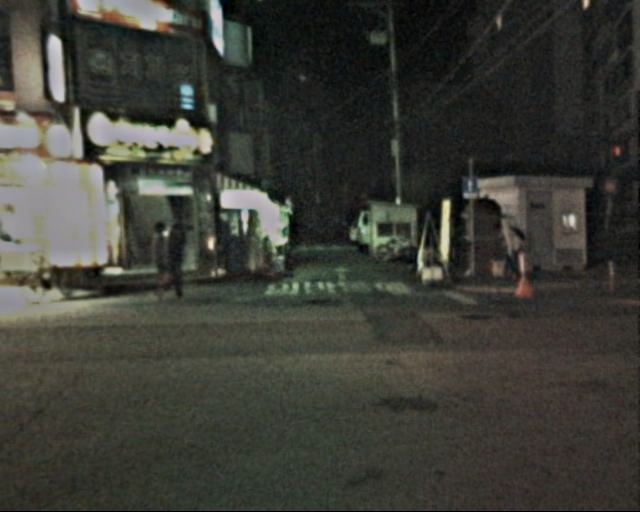person: (142, 213, 180, 294), (155, 220, 193, 300), (494, 212, 524, 288), (327, 213, 352, 246)
